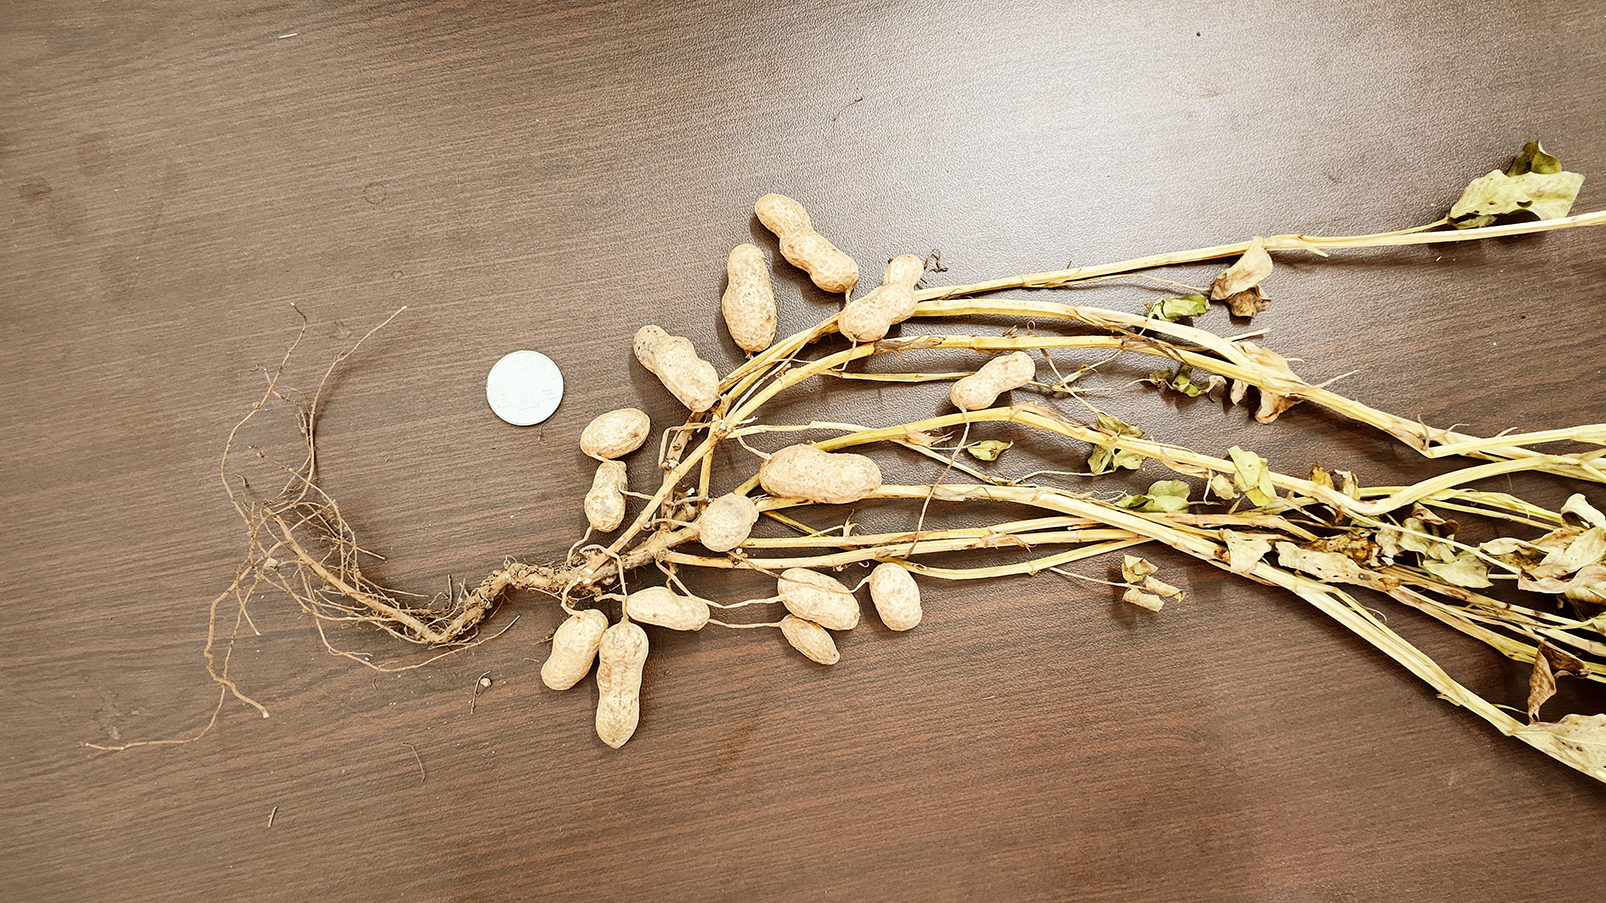h: (754, 191, 859, 291), (632, 325, 720, 410), (759, 444, 884, 504), (839, 252, 925, 338), (593, 623, 647, 748), (721, 244, 777, 350), (540, 608, 607, 692), (777, 568, 860, 633), (950, 350, 1037, 410), (623, 588, 710, 633), (698, 494, 761, 553), (580, 407, 651, 456), (869, 565, 922, 628), (580, 462, 628, 533), (778, 616, 841, 668)
